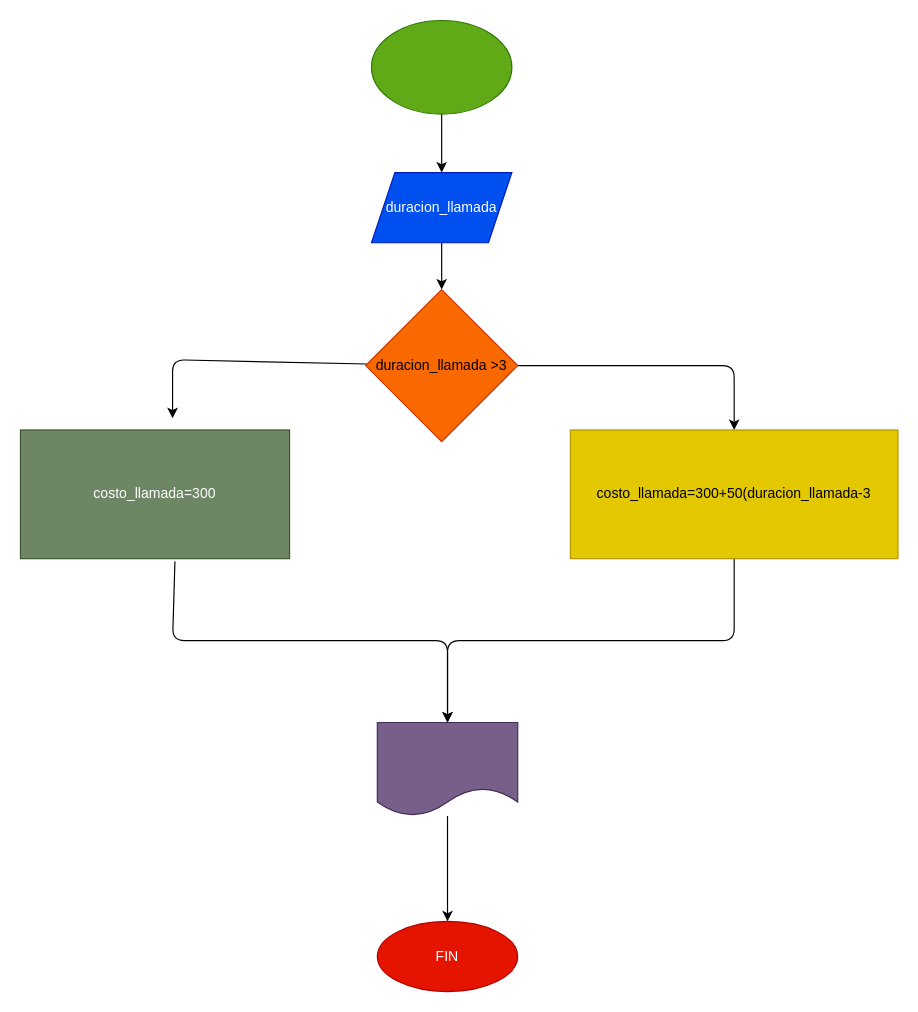
Image size: 918x1012. Some labels were removed from this diagram. Here are the shapes that lost their labels. From the top down, the box of each, then its label:
(370, 19, 512, 114): inicio
(376, 721, 518, 816): costo de la llamada
